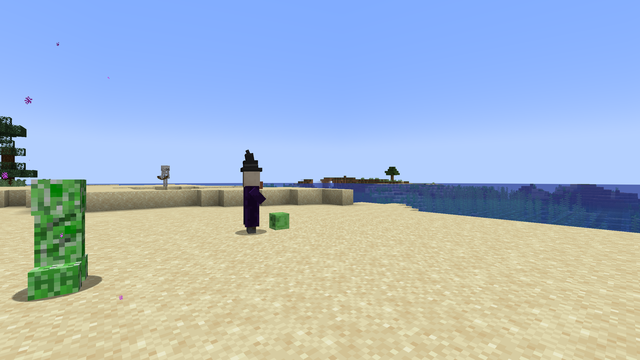creepers: (26, 174, 87, 299)
slimes: (268, 211, 289, 229)
sorcieres: (237, 168, 263, 234)
squelettes: (161, 165, 169, 186)
